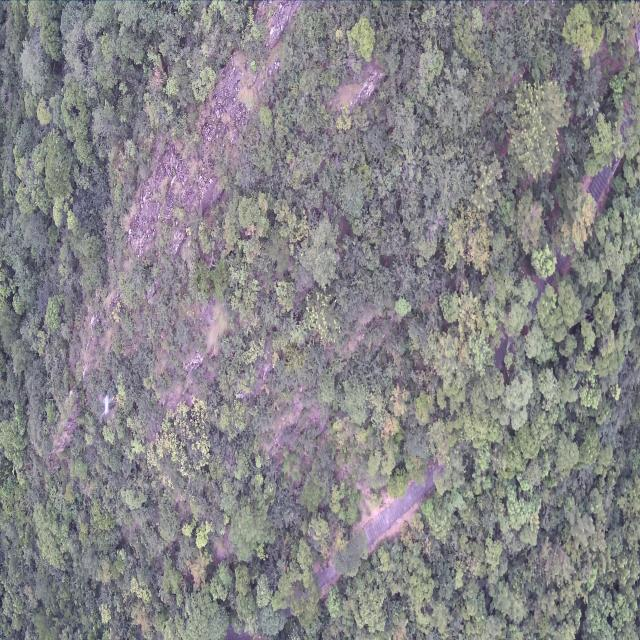UAV: (98, 393, 115, 420)
